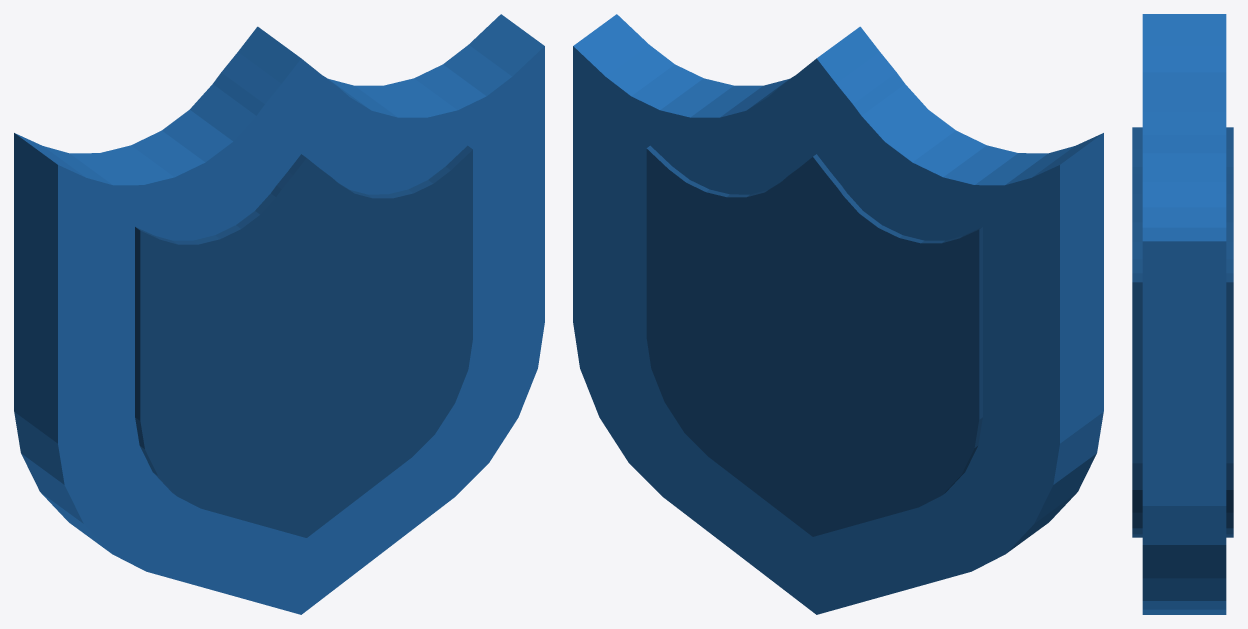
The model's file is shield.fbx.
3 renders of one model, left to right at view 1: azimuth 30°, elevation 25°; view 2: azimuth 150°, elevation 25°; view 3: azimuth 270°, elevation 25°, orthographic. The views are drawn at different scales.
Parts seen in each view (by area): view 1: Cube, Cube.001; view 2: Cube, Cube.002; view 3: Cube, Cube.001, Cube.002.
Boxes of the visible parts, left/top/right/bottom form: Cube: left=14, top=14, right=544, bottom=614; Cube.001: left=135, top=145, right=472, bottom=537; Cube: left=573, top=14, right=1103, bottom=614; Cube.002: left=646, top=145, right=982, bottom=536; Cube: left=1142, top=14, right=1226, bottom=614; Cube.001: left=1132, top=127, right=1142, bottom=537; Cube.002: left=1226, top=127, right=1233, bottom=537.
Size of the model in its own units: 200 by 218 by 37.6.
